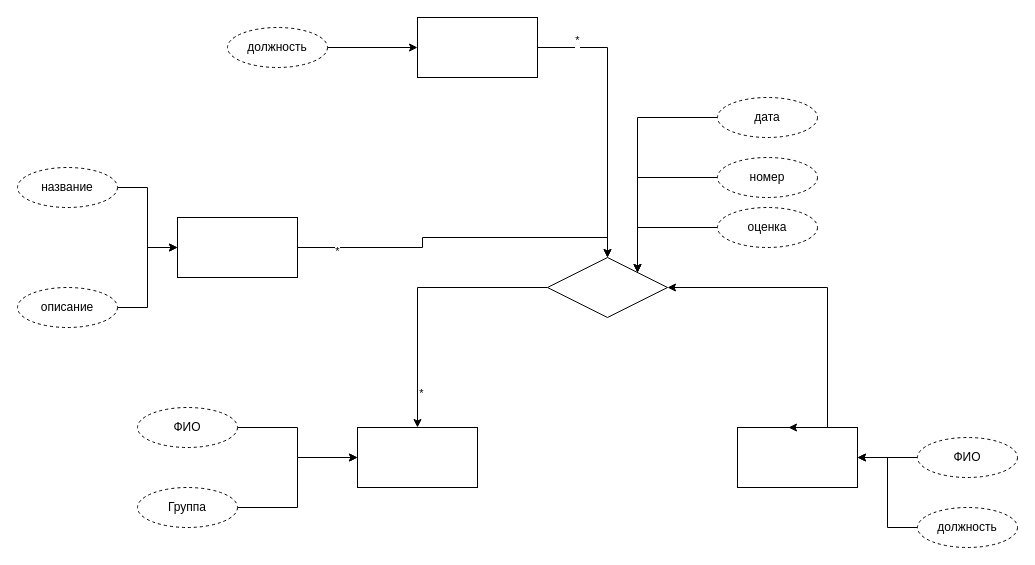
The diagram is 1035 pixels wide and 565 high, and some of its shapes have lost their labels. Here are the shapes that lost their labels. From the top down, the centre of each, then its label:
At [477,47]: "преподаватель".
At [237,247]: "предмет".
At [607,287]: "выдача листа".
At [417,457]: "студент".
At [797,457]: "сотрудник".
